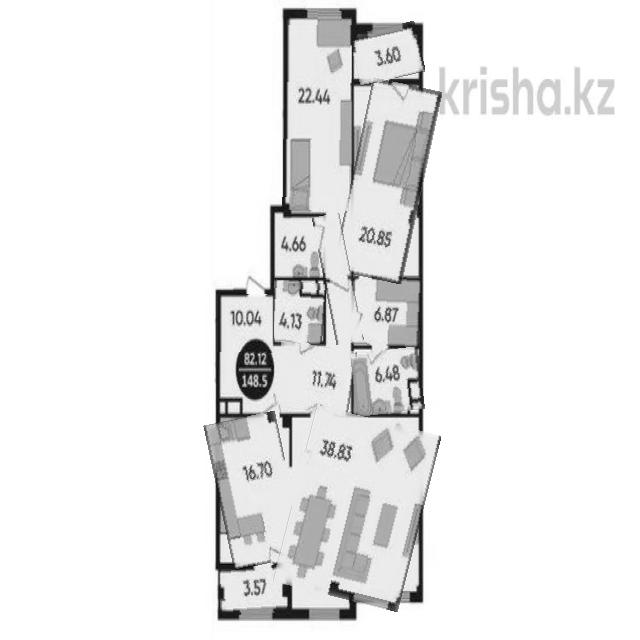balcony: (352, 24, 423, 84), (219, 566, 288, 616)
bathroom: (352, 348, 424, 415), (272, 280, 326, 343), (272, 216, 324, 278)
hallway: (215, 294, 274, 410), (274, 343, 355, 414), (318, 213, 358, 344)
kitchen: (211, 414, 298, 568)
living_room: (282, 411, 431, 606), (342, 80, 433, 282), (283, 11, 352, 211)
other: (352, 275, 422, 347)
